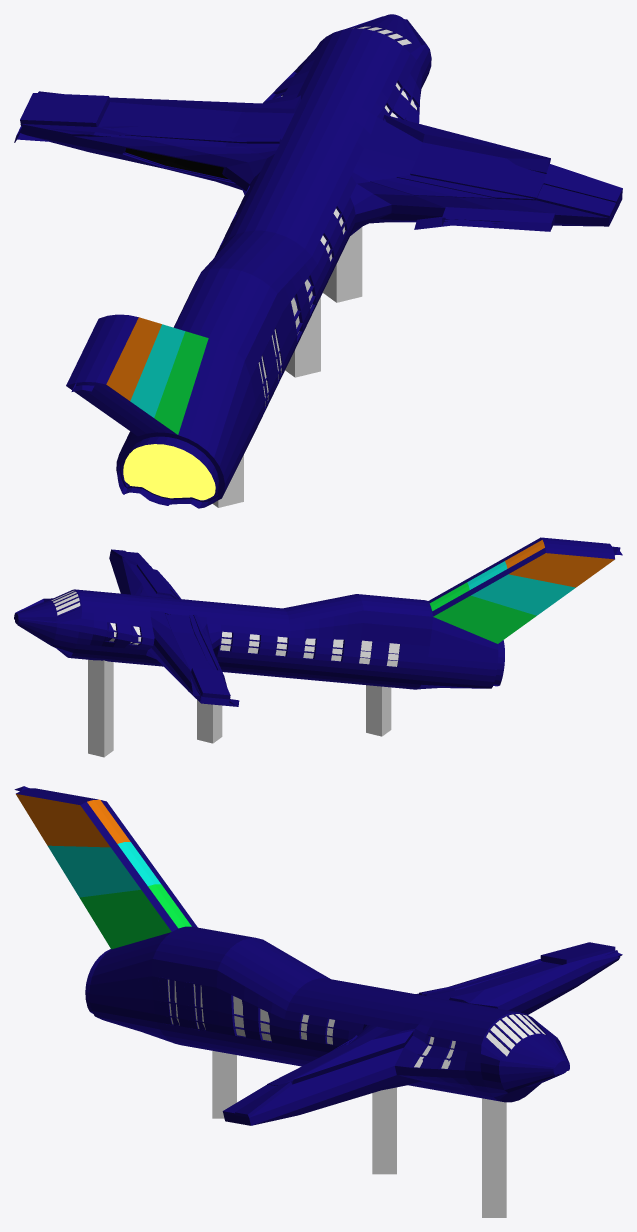
Rendered from ECIA_plane_pedestal.fbx.
3 views of the same model, one above another, from view 1: azimuth 30°, elevation 25°; view 2: azimuth 150°, elevation 25°; view 3: azimuth 270°, elevation 25° (orthographic). The views are drawn at different scales.
Parts seen in each view (by area): view 1: Cylinder, Cube.002, Cube.001, Cube; view 2: Cylinder, Cube.002, Cube, Cube.001; view 3: Cylinder, Cube.002, Cube.001, Cube.
Part boxes in pixels (box(x1,y1,x2,y2)): Cylinder: box(14, 14, 622, 508); Cube.002: box(323, 227, 362, 302); Cube.001: box(285, 297, 320, 377); Cube: box(213, 455, 243, 507); Cylinder: box(14, 537, 622, 706); Cube.002: box(88, 659, 113, 757); Cube: box(366, 685, 391, 736); Cube.001: box(197, 700, 222, 743); Cylinder: box(14, 786, 622, 1125); Cube.002: box(482, 1098, 506, 1217); Cube.001: box(372, 1087, 396, 1174); Cube: box(212, 1050, 236, 1118).
Bounding box in the file's own units: 798 × 321 × 741.
